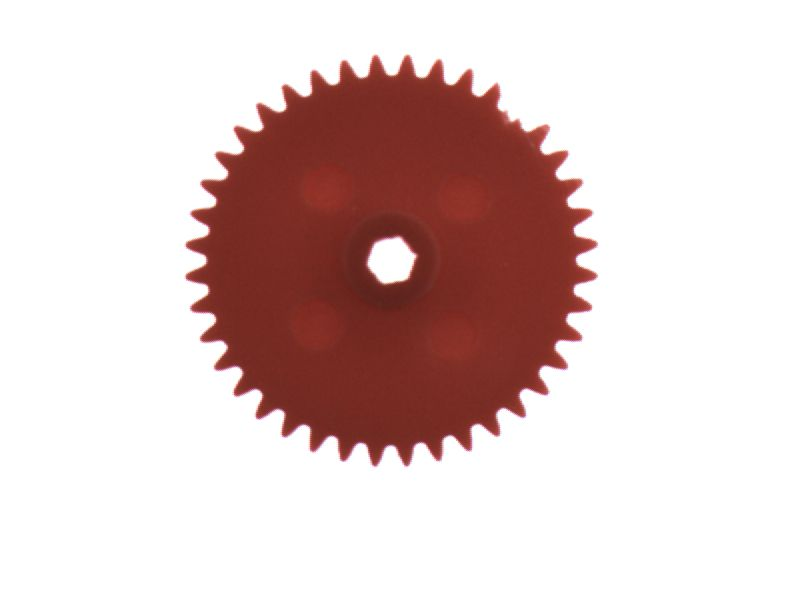defect_lack: (479, 86, 552, 137)
